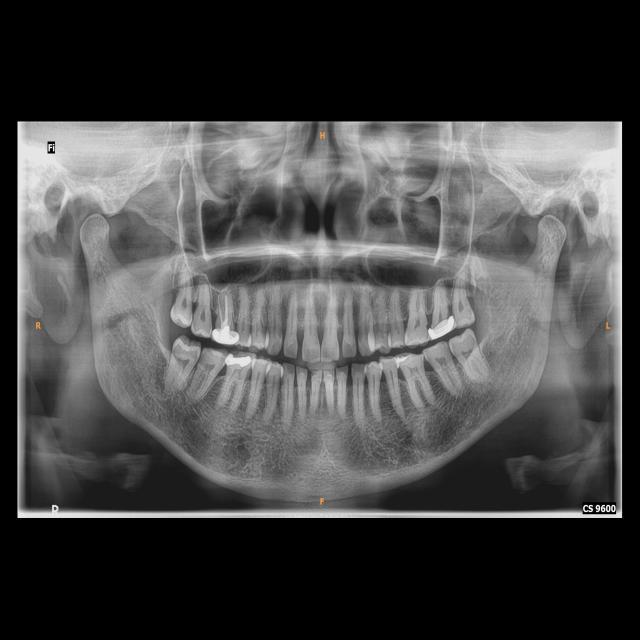dolgu: (226, 350, 253, 377)
kanal-tedavisi: (218, 290, 232, 327)
kaplama: (210, 320, 243, 350), (427, 313, 458, 339)
